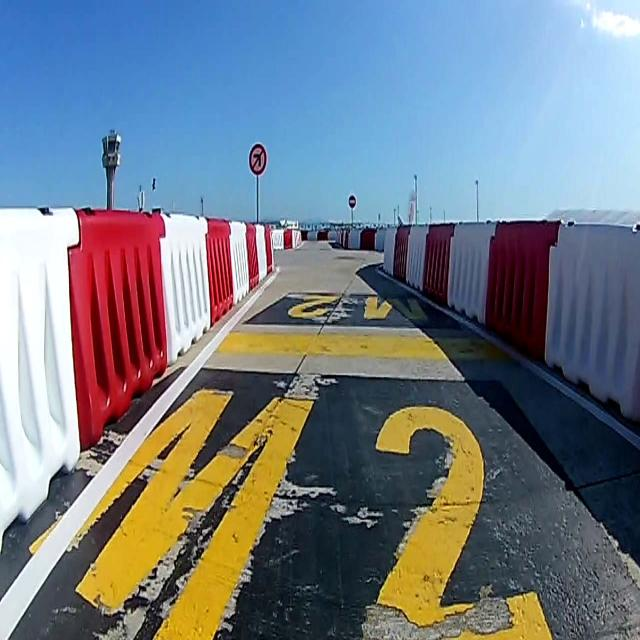girisyok: (348, 195, 356, 209)
soladonulmez: (248, 143, 266, 174)
